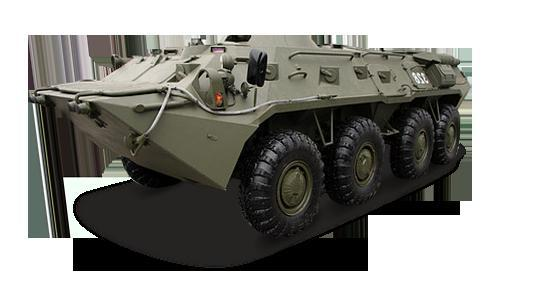tank: (32, 34, 478, 238)
